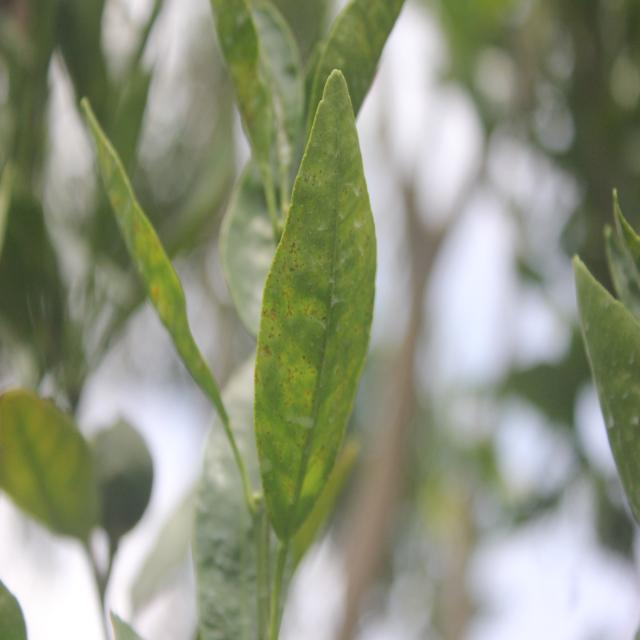canker: (259, 191, 352, 494), (124, 198, 192, 354)
